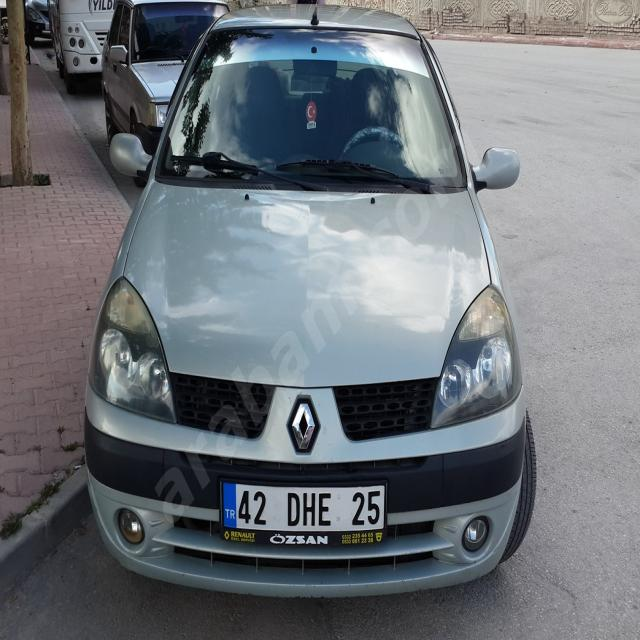license_plate: (219, 479, 385, 532)
